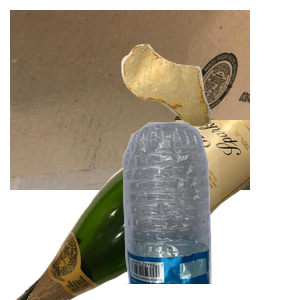cardboard: (10, 10, 250, 190)
glass: (13, 120, 253, 300)
plastic: (111, 120, 300, 300)
trash: (119, 42, 300, 161)
